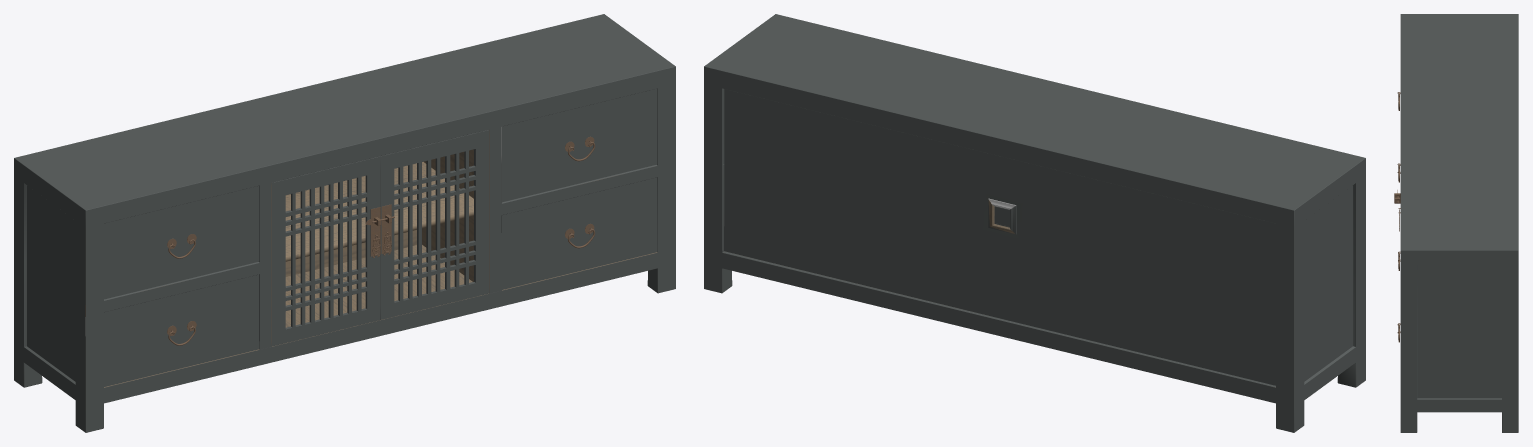
Rendered from tvconsole_lattice_grey.gltf.
3 renders of one model, left to right at view 1: azimuth 30°, elevation 25°; view 2: azimuth 150°, elevation 25°; view 3: azimuth 270°, elevation 25°, orthographic. The views are drawn at different scales.
Parts seen in each view (by area): view 1: export; view 2: export; view 3: export.
Boxes of the visible parts, <box> form: export: <box>14,14,675,432</box>; export: <box>704,14,1365,432</box>; export: <box>1394,14,1518,432</box>.
Bounding box in the file's own units: 1.8 × 0.65 × 0.4001.
1 material, 1 textured.
